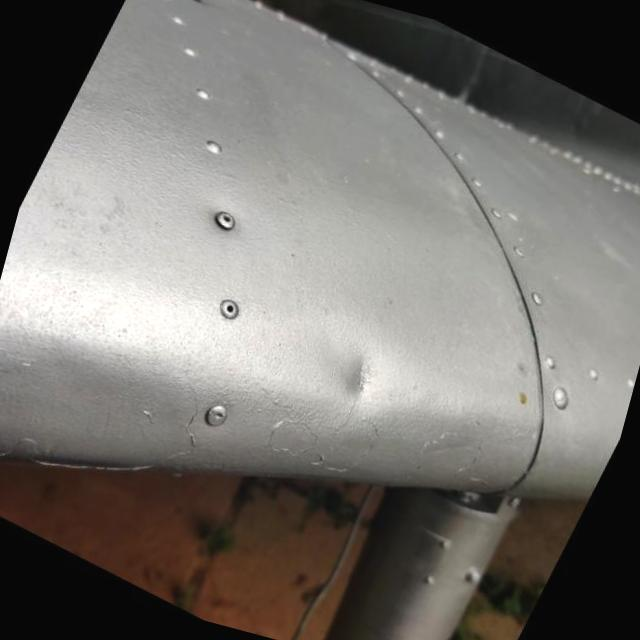dent: (316, 340, 382, 417)
